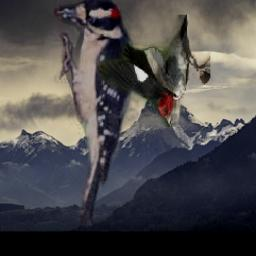Woodpecker: (55, 0, 137, 224), (100, 16, 211, 128)
